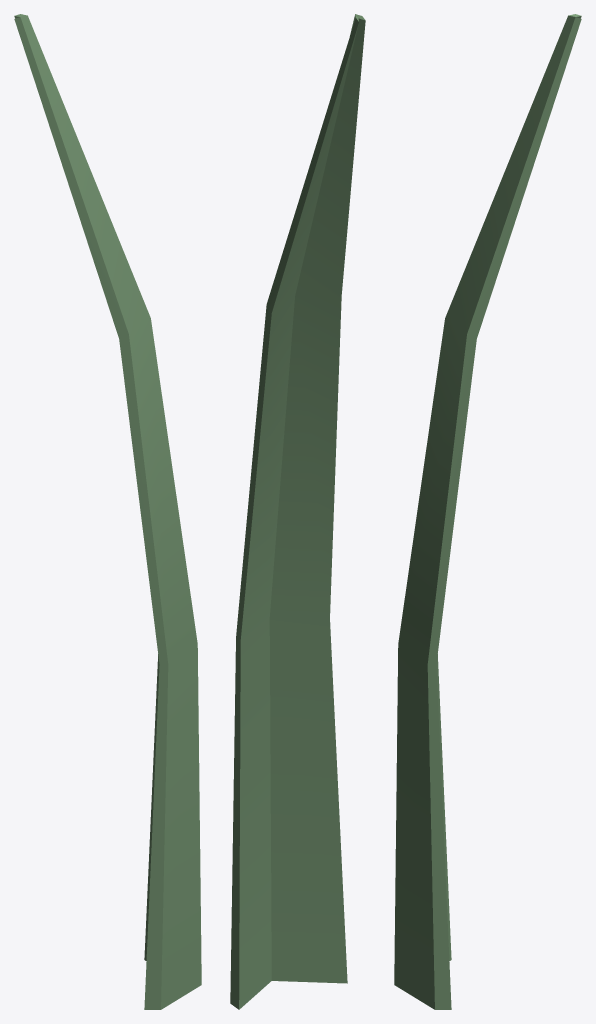
The model's file is Cimen_Tek.fbx.
3 renders of one model, left to right at view 1: azimuth 90°, elevation 25°; view 2: azimuth 210°, elevation 25°; view 3: azimuth 270°, elevation 25°, orthographic. The views are drawn at different scales.
Parts seen in each view (by area): view 1: Plane.001; view 2: Plane.001; view 3: Plane.001.
Boxes of the visible parts, box(x1,y1,x2,y2) form: Plane.001: box(14, 14, 201, 1009); Plane.001: box(230, 14, 365, 1009); Plane.001: box(394, 14, 581, 1009).
Size of the model in its own units: 14.23 by 129 by 22.57.
